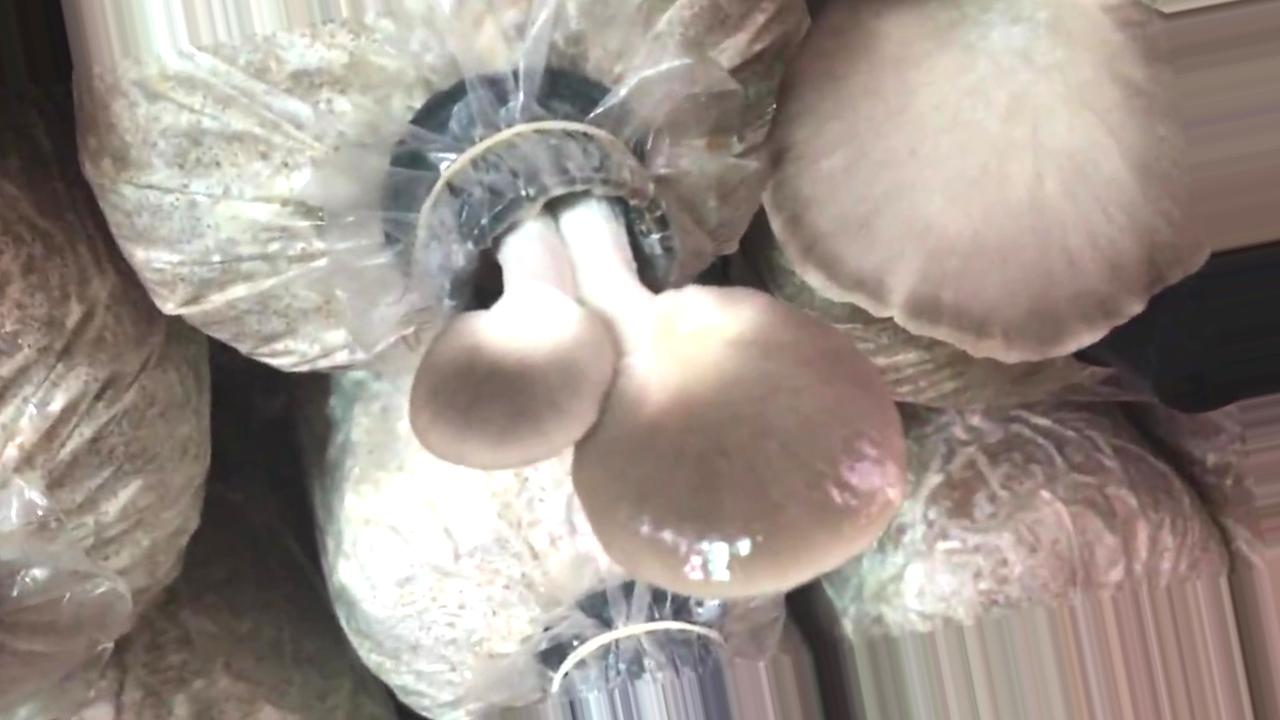nam: (405, 112, 909, 607), (763, 1, 1280, 367)
